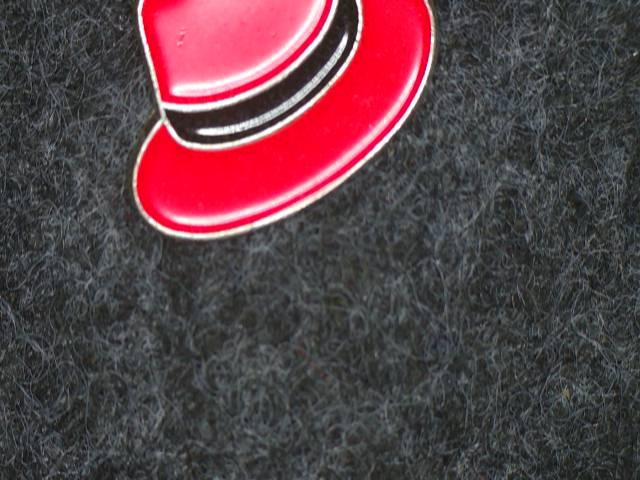Red-Hat: (102, 0, 471, 263)
